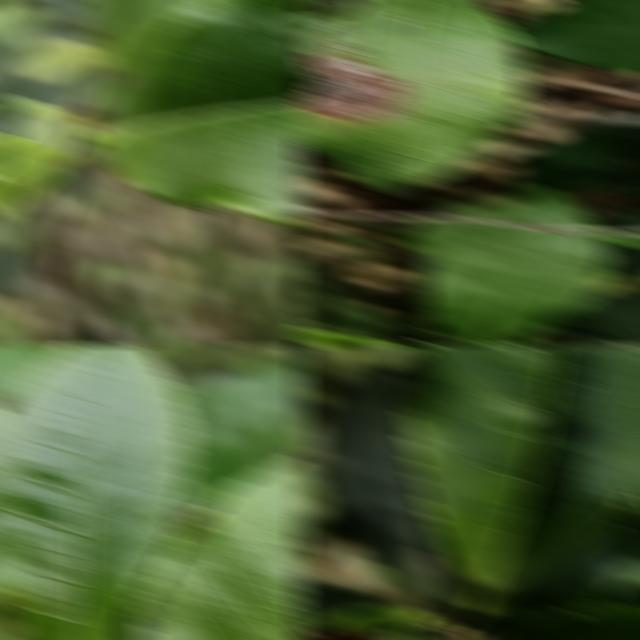Leaf: (401, 344, 640, 612), (0, 344, 193, 640), (91, 0, 306, 226), (294, 0, 528, 195), (313, 365, 452, 606), (140, 457, 306, 640), (418, 222, 612, 346), (177, 360, 306, 513), (487, 499, 640, 612), (506, 0, 640, 73), (510, 123, 630, 194), (474, 602, 640, 640), (0, 132, 66, 218), (545, 291, 640, 346), (480, 184, 594, 228), (0, 344, 79, 397), (15, 38, 97, 82)
